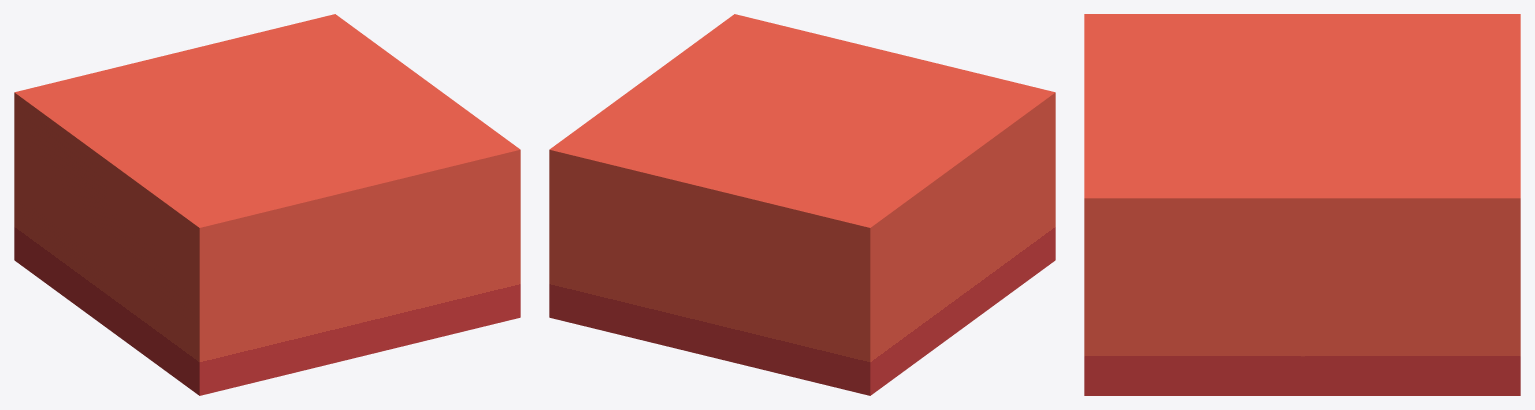
The picture shows the model from 3 angles, left to right: view 1: azimuth 30°, elevation 25°; view 2: azimuth 150°, elevation 25°; view 3: azimuth 270°, elevation 25°; orthographic projection. The views are drawn at different scales.
Visible parts, largest first — view 1: block_low; view 2: block_low; view 3: block_low.
Part boxes in pixels (x1=…): block_low: x1=14, y1=14, x2=520, y2=395; block_low: x1=549, y1=14, x2=1055, y2=395; block_low: x1=1084, y1=14, x2=1520, y2=395.
Size of the model in its own units: 1 by 0.5 by 1.
Materials: 1 (1 with a texture image).
